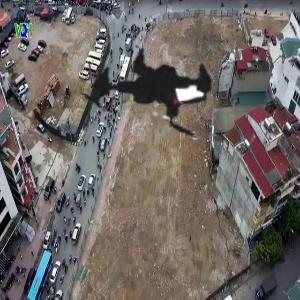drone: (53, 2, 249, 198)
